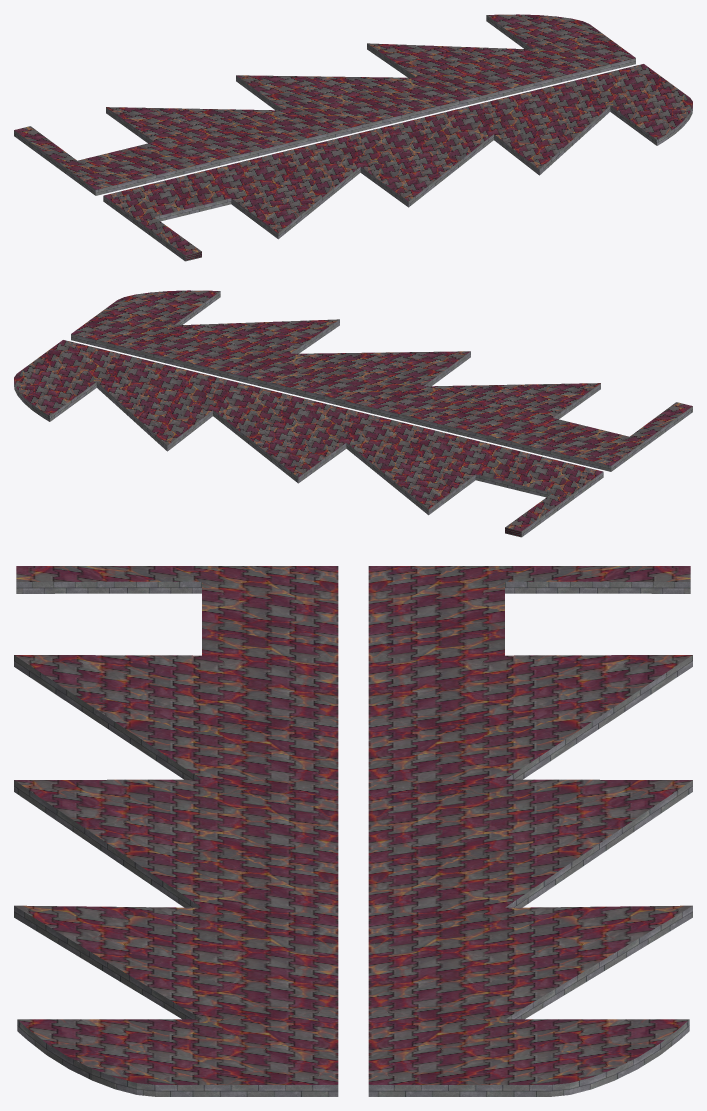
File: parking_lot_3.fbx
3 renders of one model, top to bottom at view 1: azimuth 30°, elevation 25°; view 2: azimuth 150°, elevation 25°; view 3: azimuth 270°, elevation 25°, orthographic. The views are drawn at different scales.
Parts seen in each view (by area): view 1: parking_lot_1.004, parking_lot_1.002; view 2: parking_lot_1.002, parking_lot_1.004; view 3: parking_lot_1.002, parking_lot_1.004.
Boxes of the visible parts, bbox=[...] form: parking_lot_1.004: bbox=[14, 14, 635, 195]; parking_lot_1.002: bbox=[103, 64, 692, 261]; parking_lot_1.002: bbox=[71, 290, 692, 471]; parking_lot_1.004: bbox=[14, 340, 603, 537]; parking_lot_1.002: bbox=[14, 566, 338, 1096]; parking_lot_1.004: bbox=[368, 566, 692, 1096].
Bounding box in the file's own units: 203 × 2.17 × 112.
